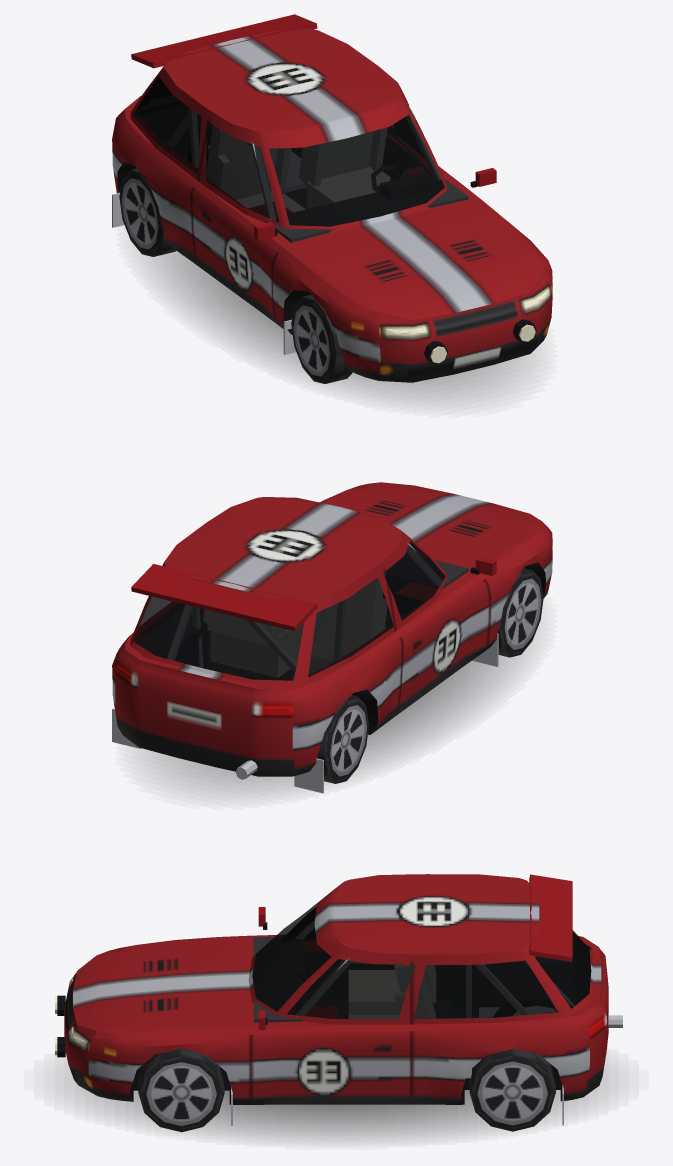
File: caldeira.glb
3 views of the same model, one above another, from view 1: azimuth 30°, elevation 25°; view 2: azimuth 150°, elevation 25°; view 3: azimuth 270°, elevation 25° (orthographic). The views are drawn at different scales.
Visible parts, largest first — view 1: Carroceria, Interior, Capo_malha, Porta_D_malha, Sombra, Roda_DD, Tampa_malha, Roda_TD, Porta_E_malha; view 2: Carroceria, Tampa_malha, Interior, Porta_D_malha, Sombra, Capo_malha, Roda_TD, Roda_DD; view 3: Carroceria, Porta_E_malha, Interior, Capo_malha, Sombra, Tampa_malha, Roda_DE, Roda_TE, Porta_D_malha.
Part boxes in pixels (left/top/right/bottom): Carroceria: left=112, top=28, right=552, bottom=382; Interior: left=134, top=95, right=468, bottom=242; Capo_malha: left=298, top=207, right=548, bottom=321; Porta_D_malha: left=191, top=111, right=284, bottom=317; Sombra: left=142, top=251, right=532, bottom=403; Roda_DD: left=291, top=294, right=352, bottom=383; Tampa_malha: left=131, top=14, right=317, bottom=110; Roda_TD: left=119, top=168, right=176, bottom=256; Porta_E_malha: left=394, top=84, right=496, bottom=187; Carroceria: left=112, top=485, right=552, bottom=793; Tampa_malha: left=131, top=564, right=317, bottom=754; Interior: left=137, top=543, right=468, bottom=679; Porta_D_malha: left=382, top=532, right=496, bottom=705; Sombra: left=140, top=645, right=530, bottom=795; Capo_malha: left=325, top=482, right=548, bottom=563; Roda_TD: left=317, top=695, right=369, bottom=783; Roda_DD: left=497, top=568, right=543, bottom=657; Carroceria: left=55, top=874, right=622, bottom=1125; Porta_E_malha: left=250, top=947, right=411, bottom=1098; Interior: left=141, top=917, right=591, bottom=1078; Capo_malha: left=78, top=939, right=233, bottom=1039; Sombra: left=64, top=1066, right=608, bottom=1140; Tampa_malha: left=527, top=874, right=608, bottom=1046; Roda_DE: left=138, top=1048, right=224, bottom=1132; Roda_TE: left=469, top=1049, right=555, bottom=1131; Porta_D_malha: left=258, top=907, right=315, bottom=939.
Size of the model in its own units: 2.36 by 1.32 by 4.48.
Materials: 14 (5 with a texture image).
